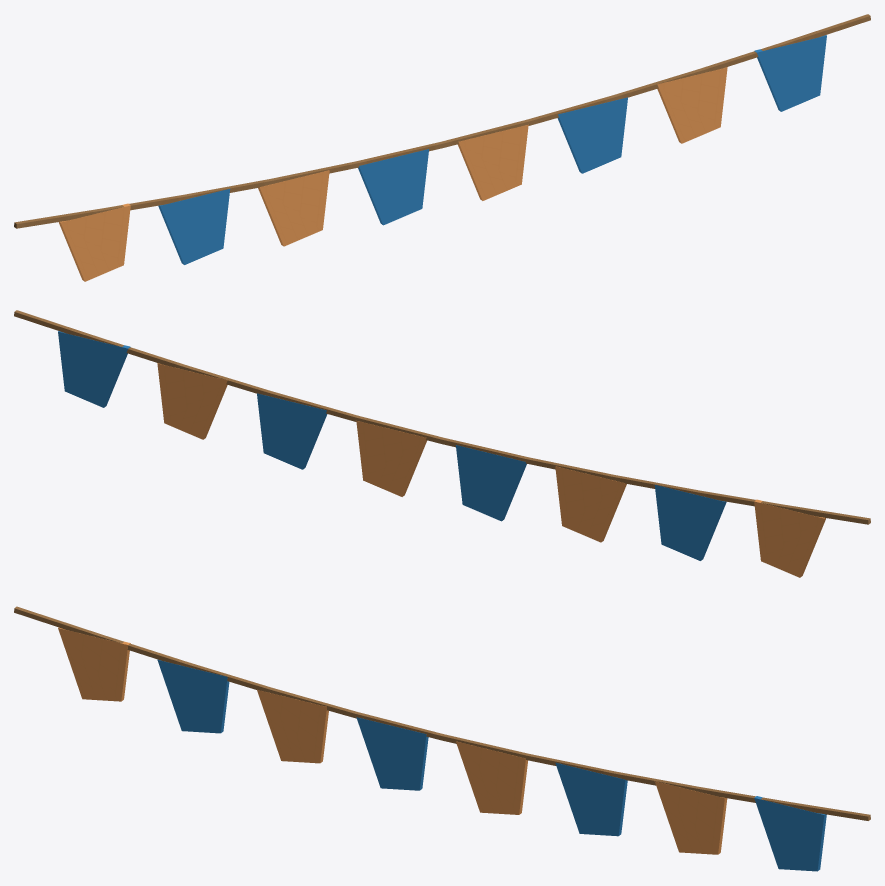
File: bunting.glb
The picture shows the model from 3 angles, top to bottom: view 1: azimuth 30°, elevation 25°; view 2: azimuth 150°, elevation 25°; view 3: azimuth 330°, elevation 25°; orthographic projection.
Parts seen in each view (by area): view 1: beach_bunting; view 2: beach_bunting; view 3: beach_bunting.
Part boxes in pixels (box(x1,y1,x2,y2)): beach_bunting: box(14, 14, 870, 281); beach_bunting: box(14, 310, 870, 577); beach_bunting: box(14, 606, 870, 871).
Size of the model in its own units: 4.38 by 0.444 by 0.024.
Materials: 3 (3 with a texture image).
